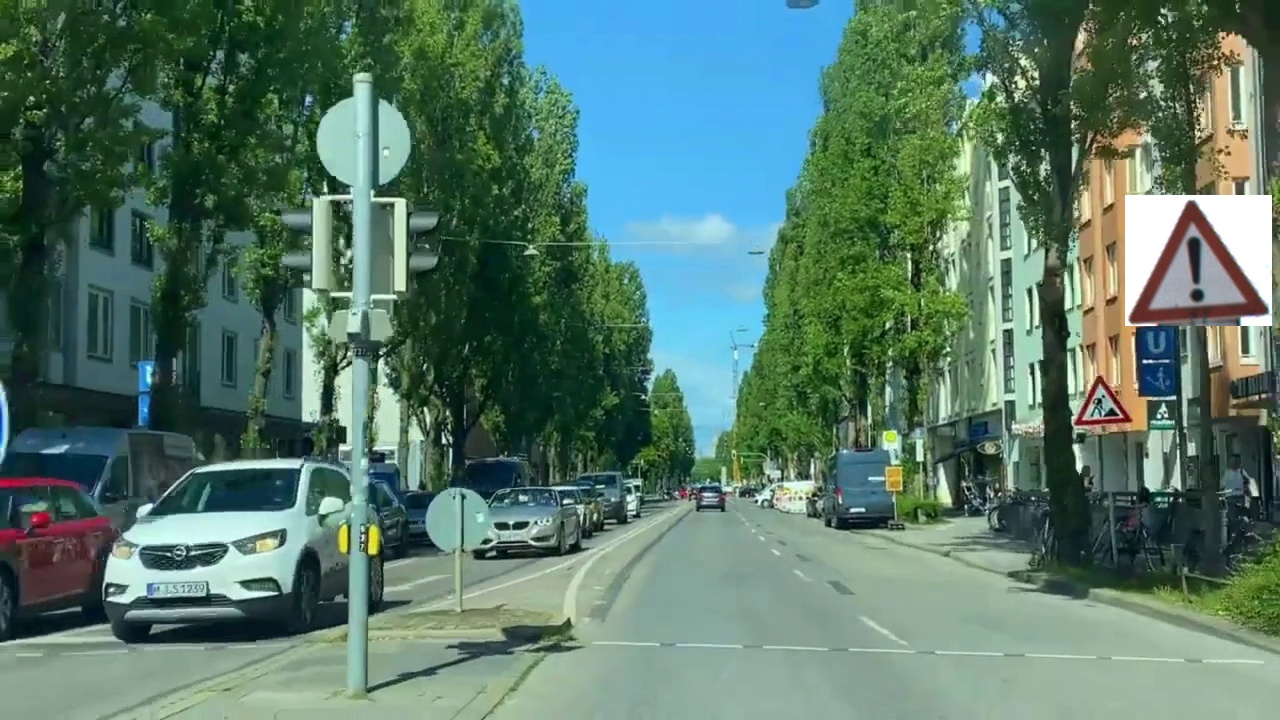Caution: (1125, 195, 1272, 326)
